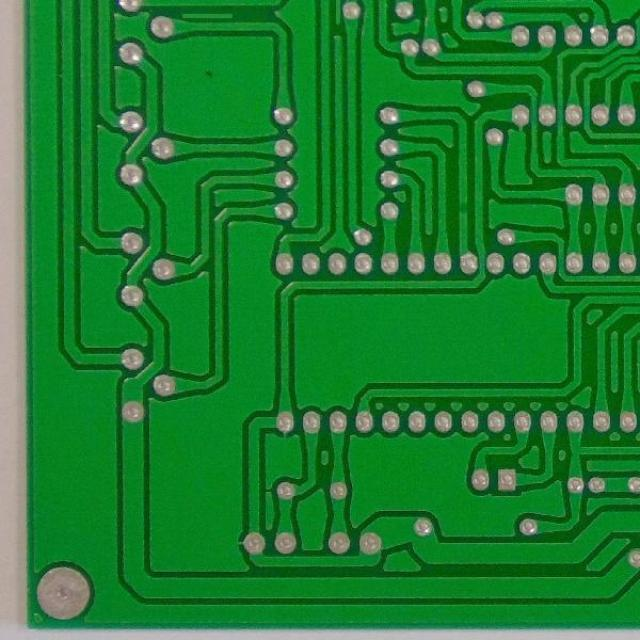Spurious_Cooper: (178, 10, 234, 22), (333, 0, 343, 27)
